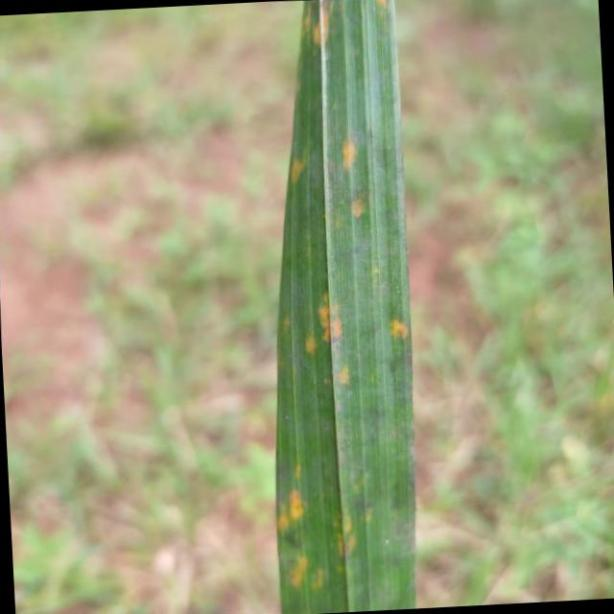Kalium: (278, 0, 418, 612)
